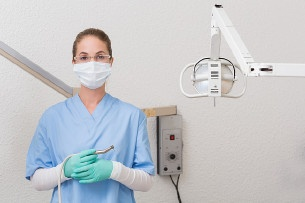Mask: (71, 48, 114, 90)
